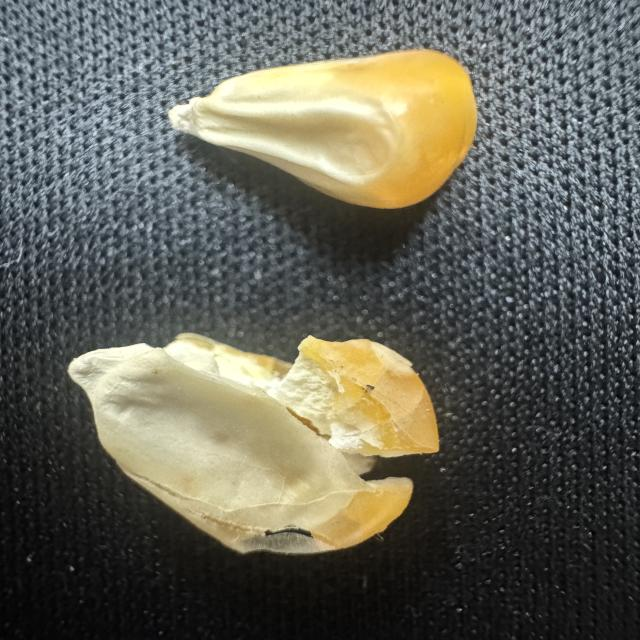Bad-Seed: (57, 319, 462, 563), (157, 45, 502, 220)
